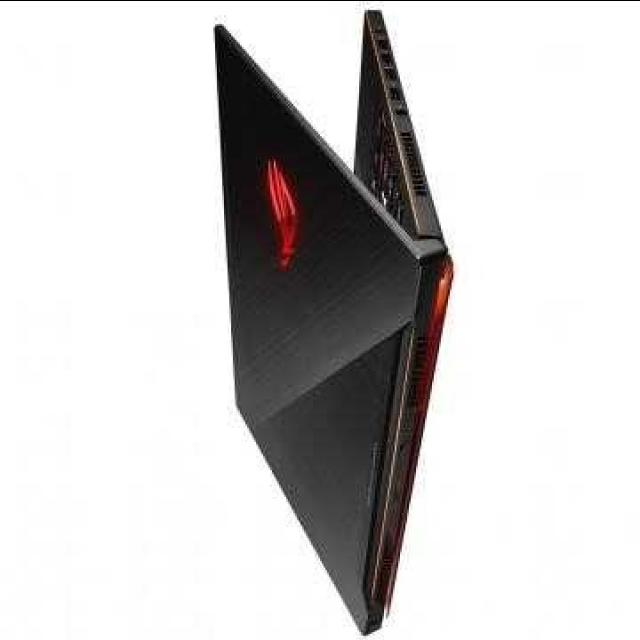laptop: (210, 0, 495, 608)
